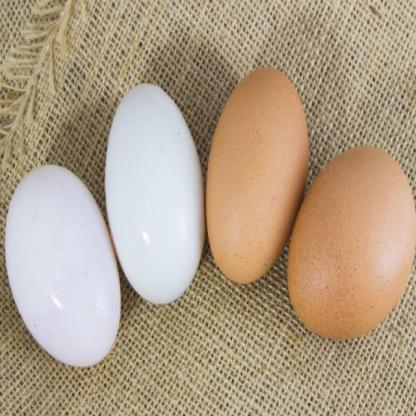egg: (83, 50, 211, 341), (280, 108, 416, 367), (195, 52, 324, 304), (0, 143, 131, 377)
